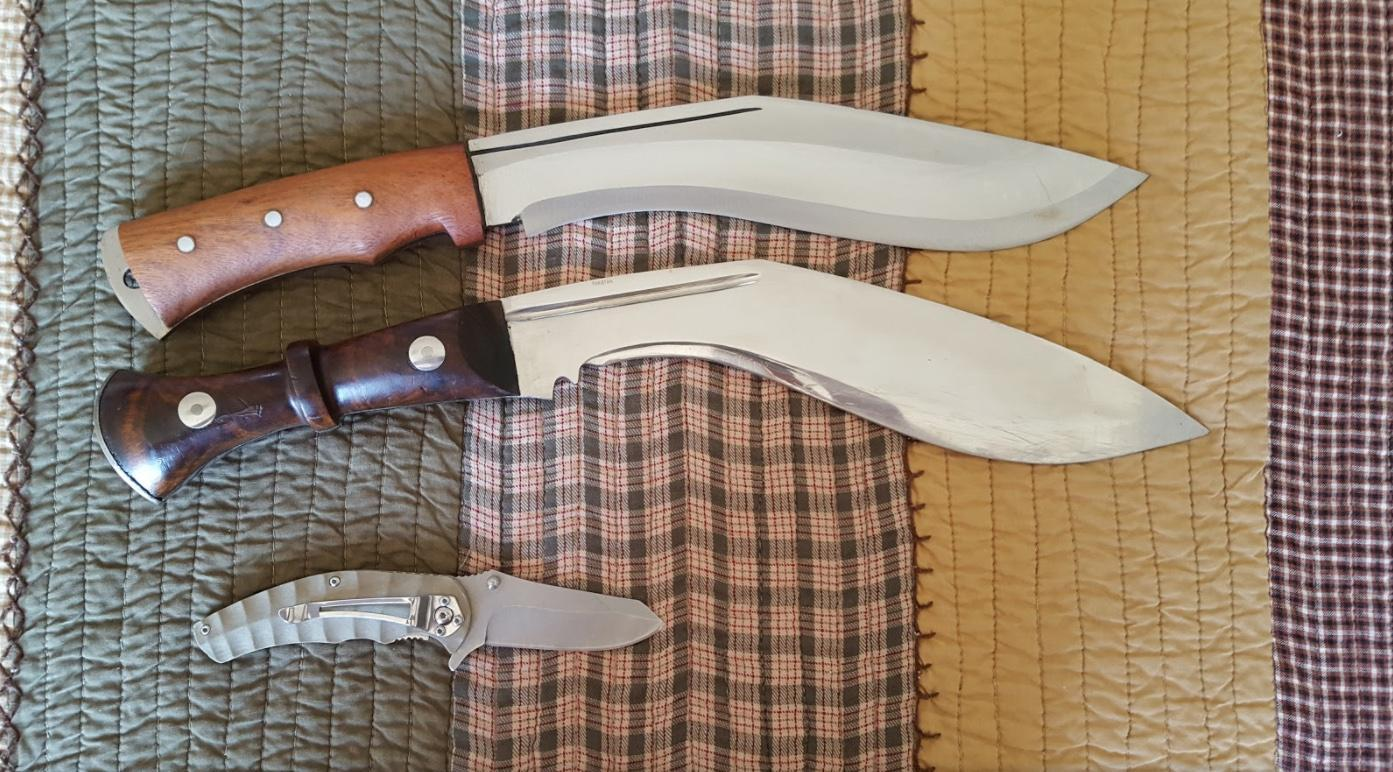facao: (99, 266, 1211, 470), (96, 89, 1152, 257)
